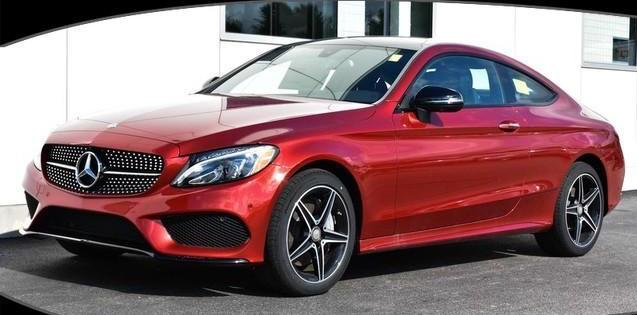C300Coupe: (5, 32, 630, 300)
